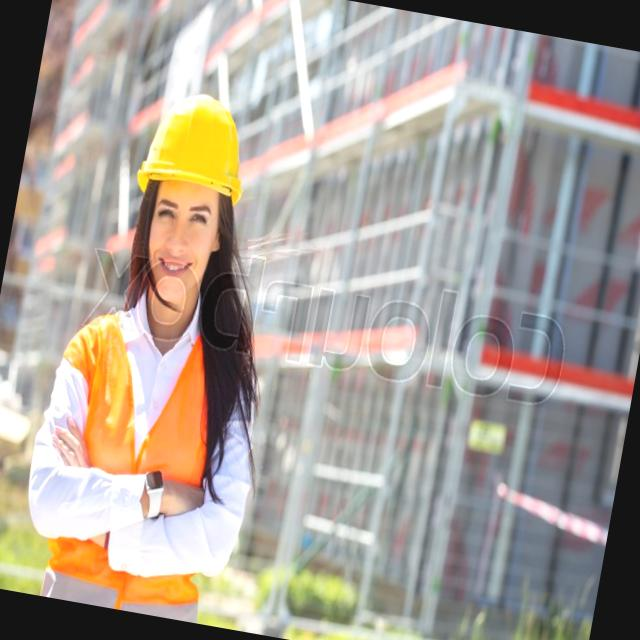helmet: (130, 81, 266, 213)
no-goggles: (129, 169, 242, 249)
vest: (15, 298, 254, 624)
